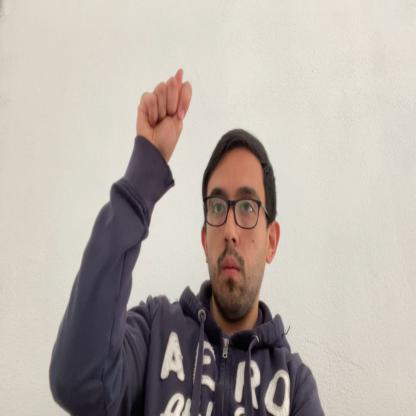T: (137, 66, 192, 150)
